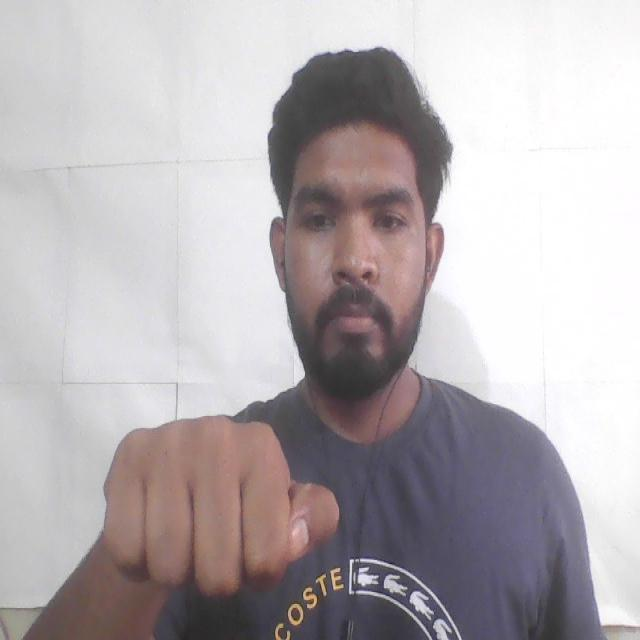Yes: (78, 397, 340, 615)
